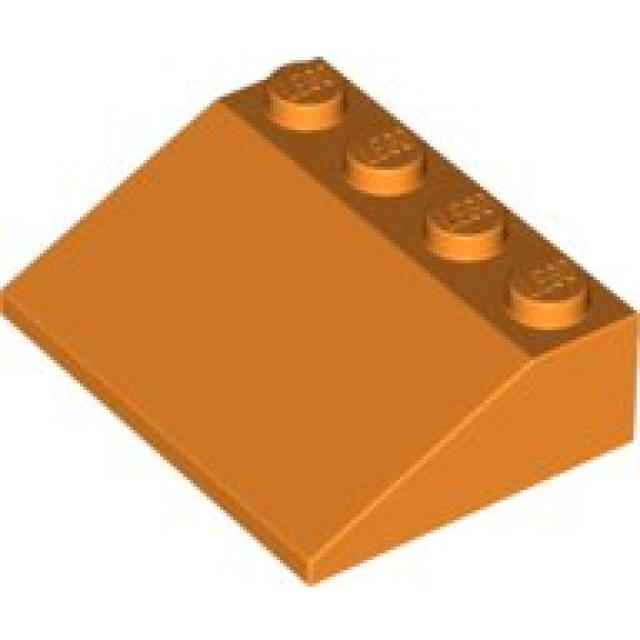Orange_Large: (0, 60, 640, 587)
